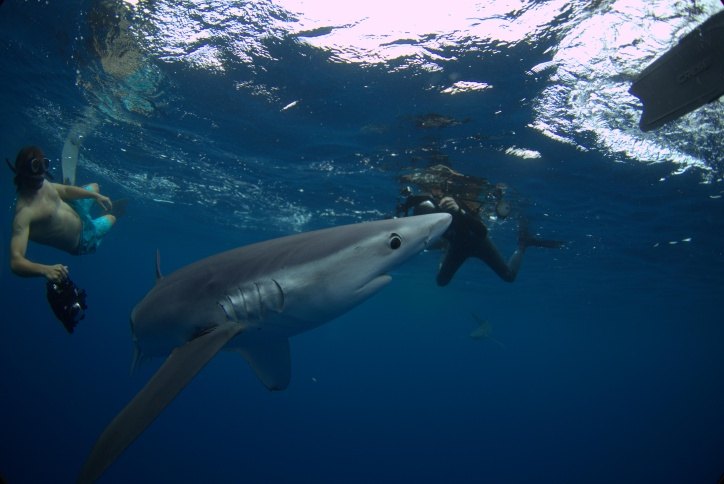Azul: (64, 197, 467, 484)
